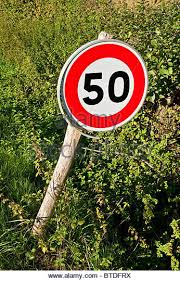Speed_limit_50km: (61, 39, 147, 133)
